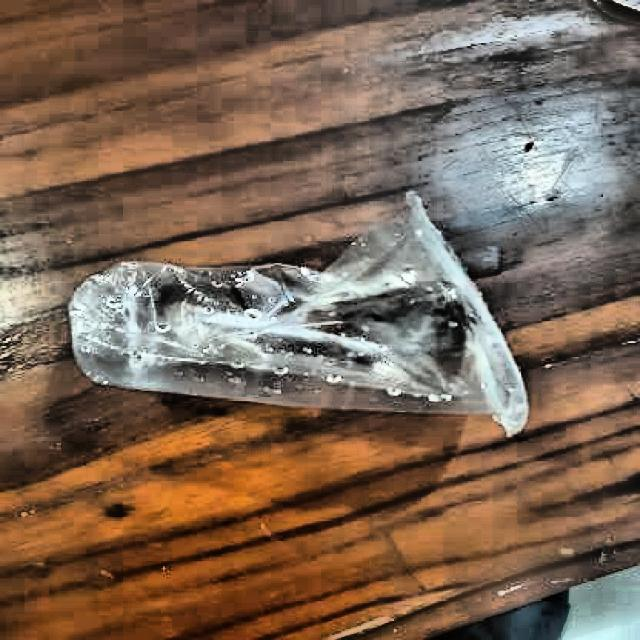Plastico descartable: (69, 192, 529, 435)
